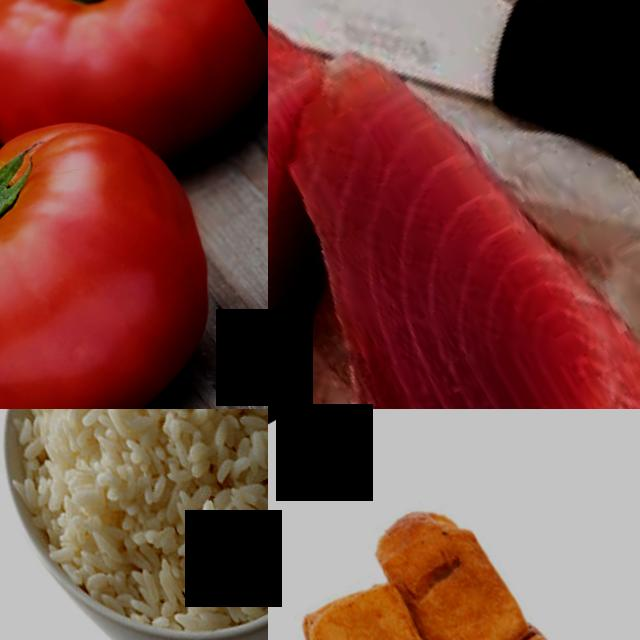tofu: (357, 486, 537, 640), (271, 567, 450, 640)
tomato: (0, 48, 268, 409), (0, 0, 262, 160)
tuna: (268, 6, 640, 409), (268, 34, 407, 409)
white rice: (0, 409, 268, 640)
